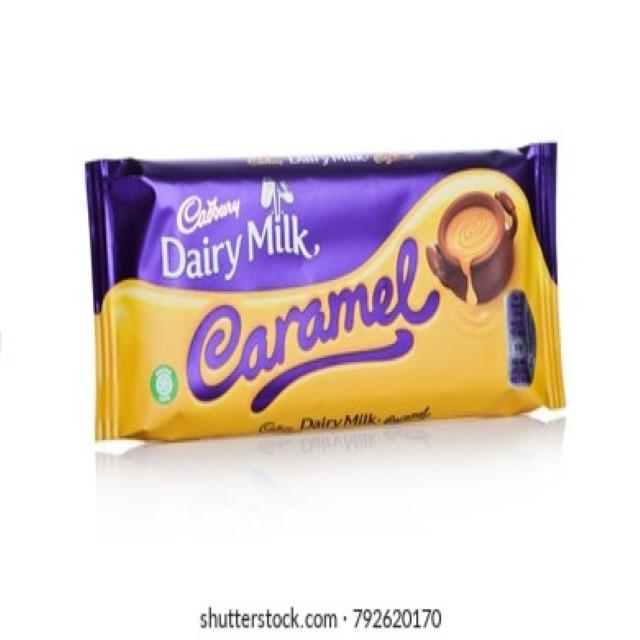cadbury_chocolate: (97, 153, 550, 447)
